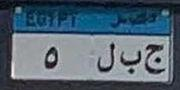5: (42, 44, 60, 72)
baa: (118, 46, 143, 77)
jeem: (143, 39, 168, 79)
laam: (96, 41, 116, 76)
